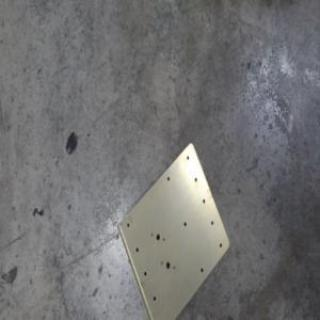MetalSheettrack_idkeyframe: (115, 139, 230, 319)
